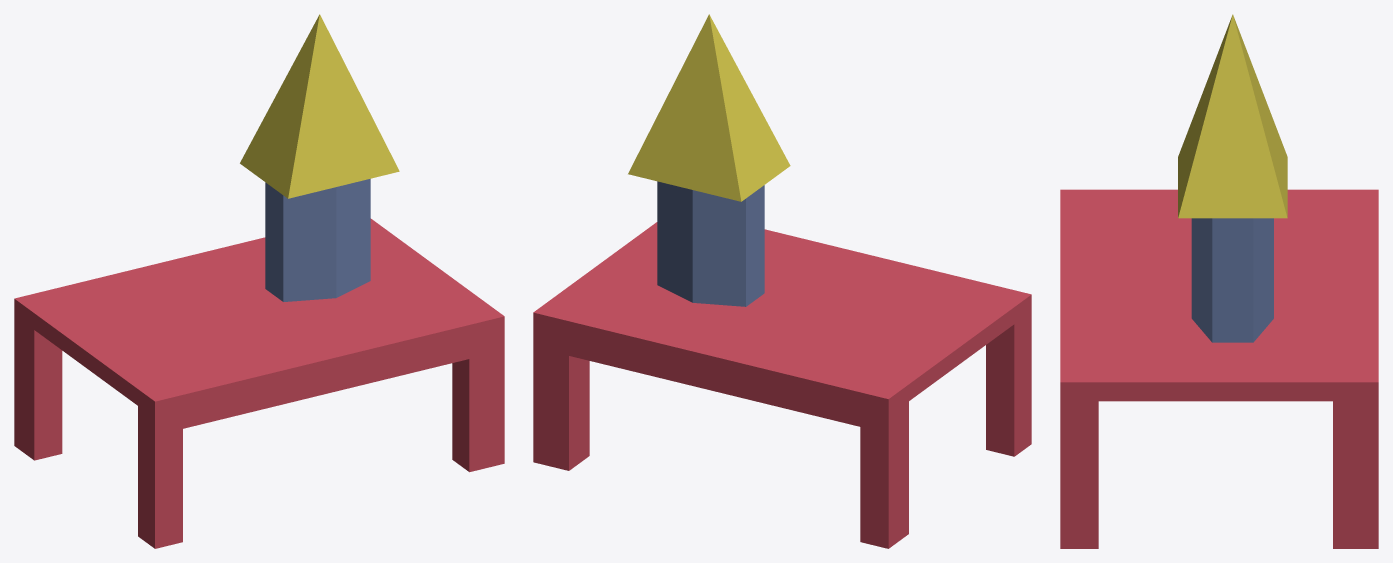
File: TableModel.glb
3 views of the same model, side by side, from view 1: azimuth 30°, elevation 25°; view 2: azimuth 150°, elevation 25°; view 3: azimuth 270°, elevation 25° (orthographic). The views are drawn at different scales.
Parts seen in each view (by area): view 1: Mesh_Mesh_head_geo.001_lambert2SG.001; view 2: Mesh_Mesh_head_geo.001_lambert2SG.001; view 3: Mesh_Mesh_head_geo.001_lambert2SG.001.
Boxes of the visible parts, bbox=[...] form: Mesh_Mesh_head_geo.001_lambert2SG.001: bbox=[14, 14, 504, 548]; Mesh_Mesh_head_geo.001_lambert2SG.001: bbox=[533, 14, 1031, 548]; Mesh_Mesh_head_geo.001_lambert2SG.001: bbox=[1060, 14, 1378, 548].
Bounding box in the file's own units: 100 × 115 × 69.86.
